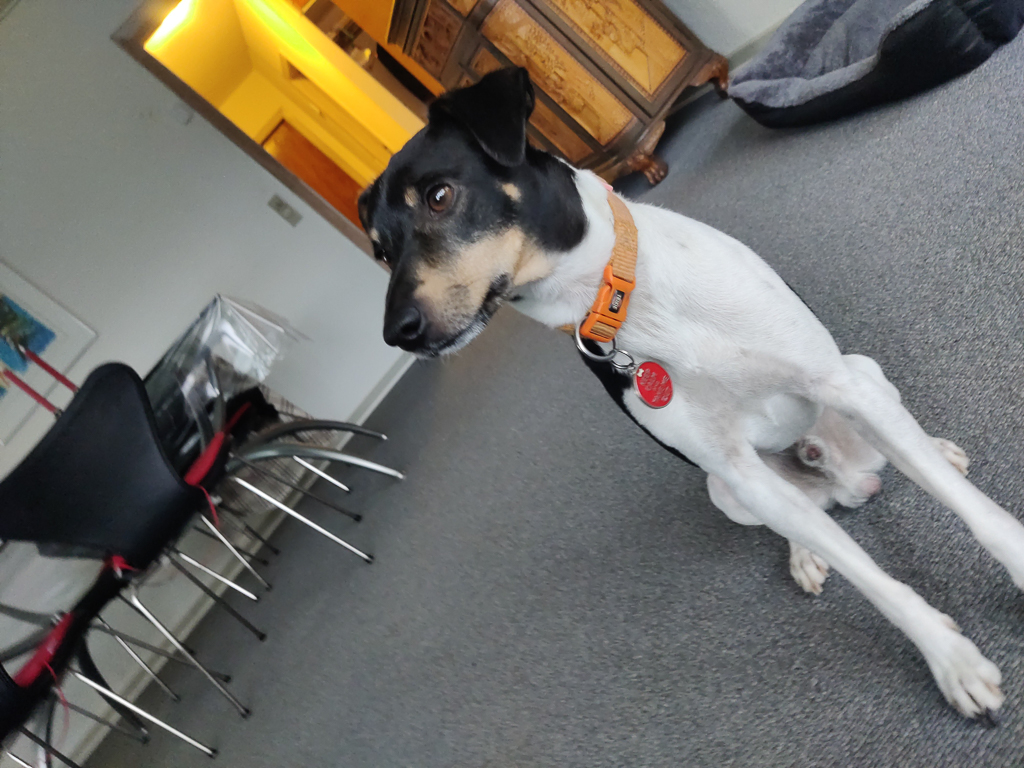Dog: (318, 45, 1024, 730)
